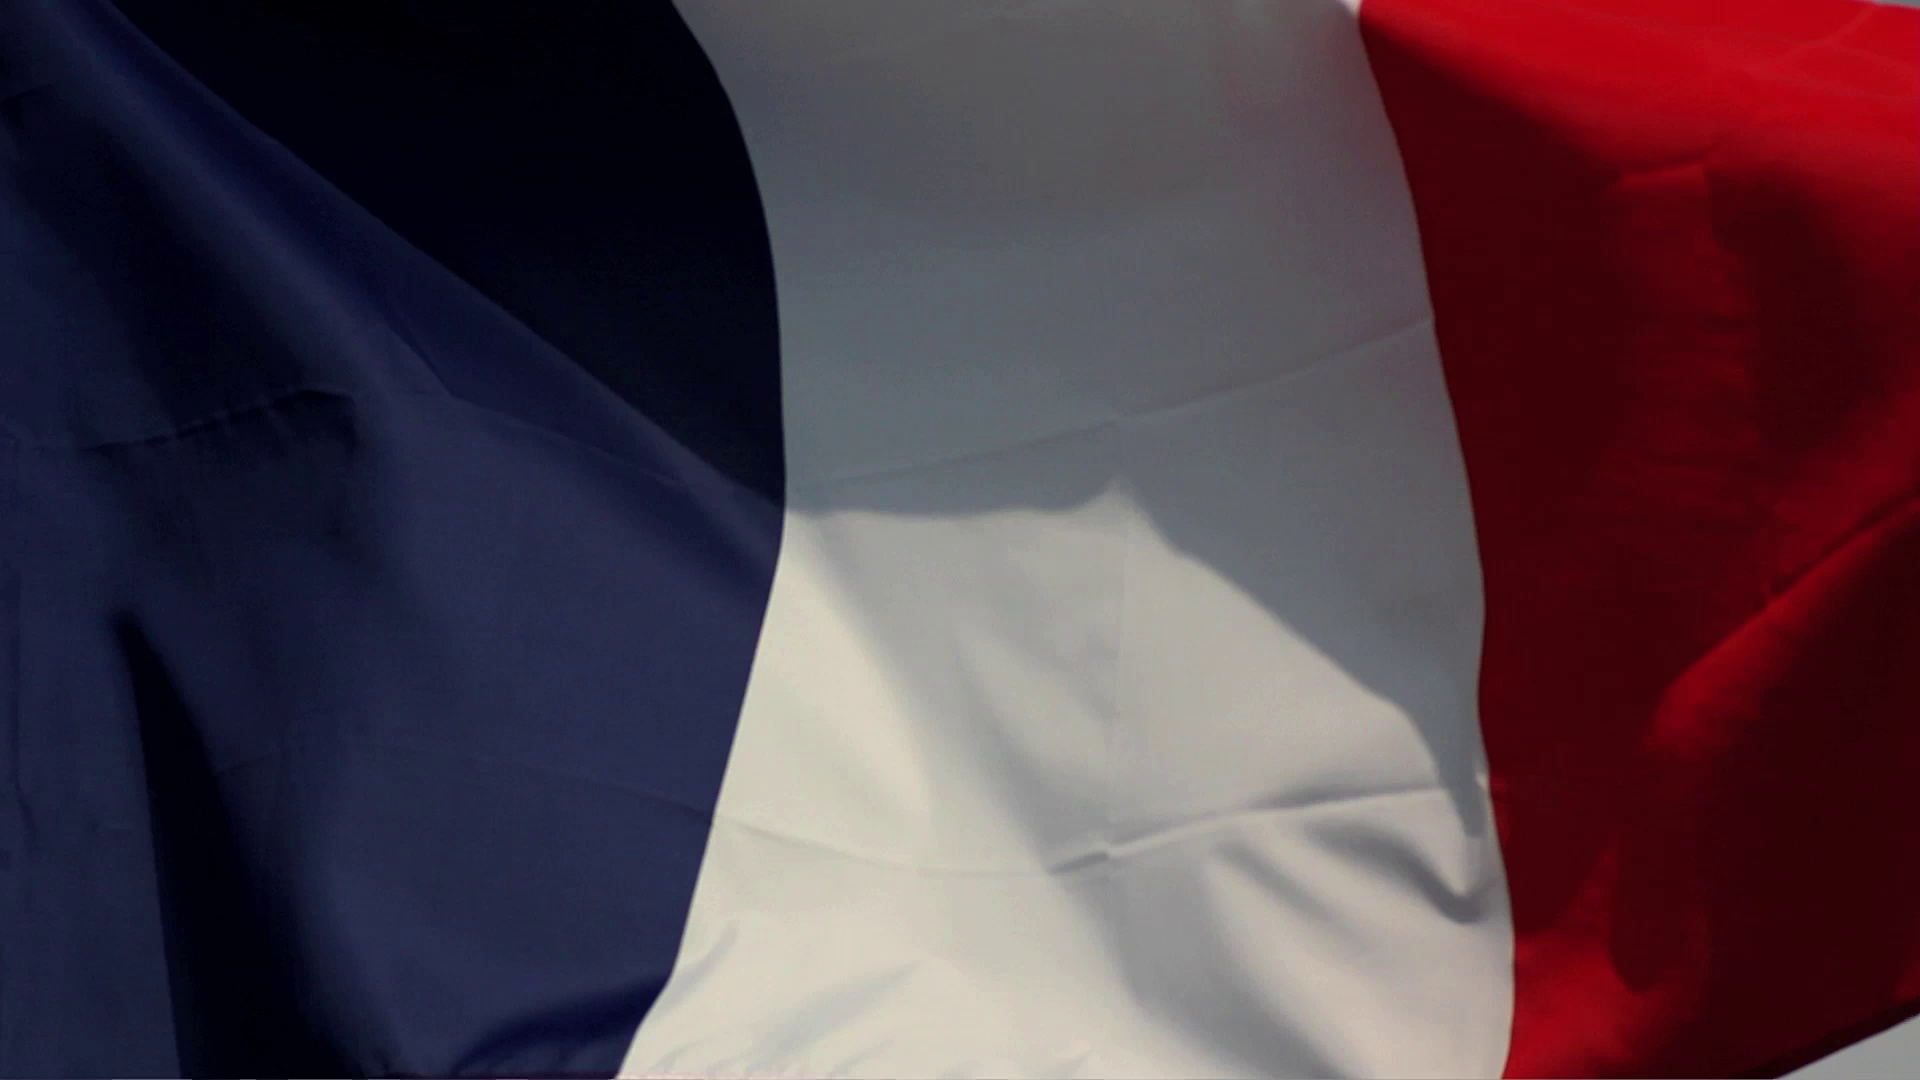French Flag: (7, 1, 1919, 1079)
